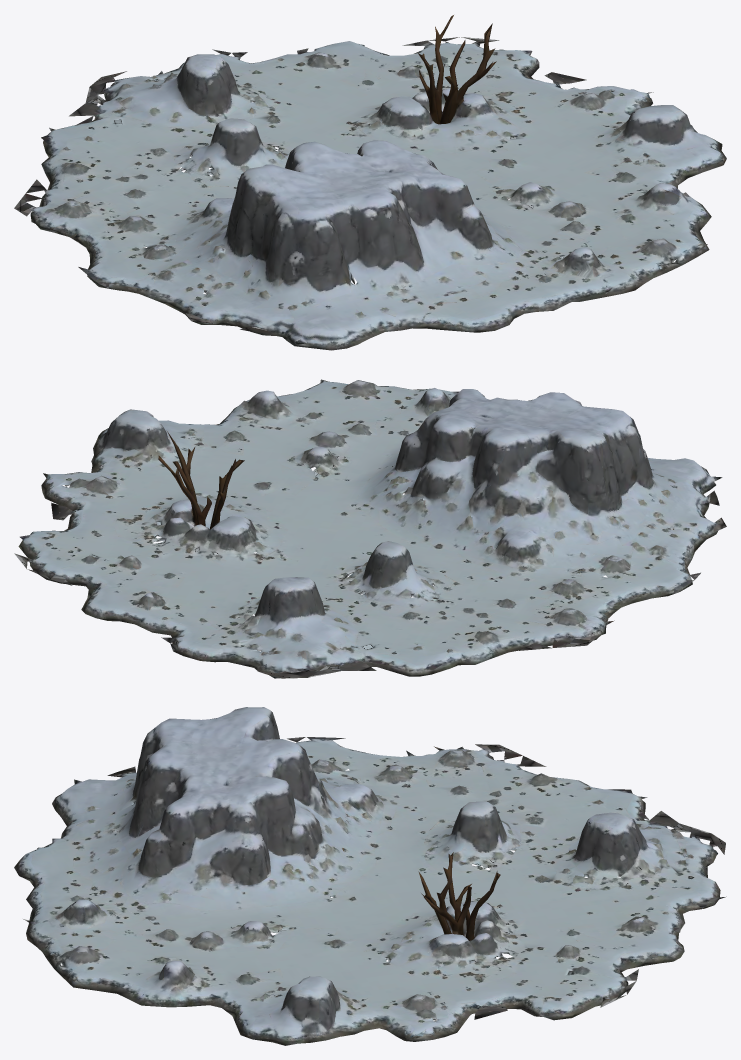
Rendered from snow-ground-10.glb.
3 views of the same model, one above another, from view 1: azimuth 30°, elevation 25°; view 2: azimuth 150°, elevation 25°; view 3: azimuth 270°, elevation 25° (orthographic). The views are drawn at different scales.
Visible parts, largest first — view 1: geometry_0; view 2: geometry_0; view 3: geometry_0.
Boxes of the visible parts, x1,y1,x2,y2 form: geometry_0: (14,15,726,350); geometry_0: (14,379,726,678); geometry_0: (14,707,726,1045).
Size of the model in its own units: 0.9576 by 0.1547 by 0.9515.
1 material, 1 textured.
